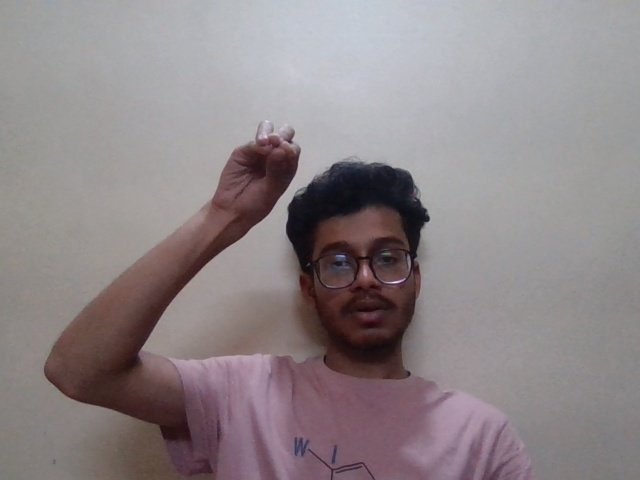talk: (217, 114, 302, 230)
